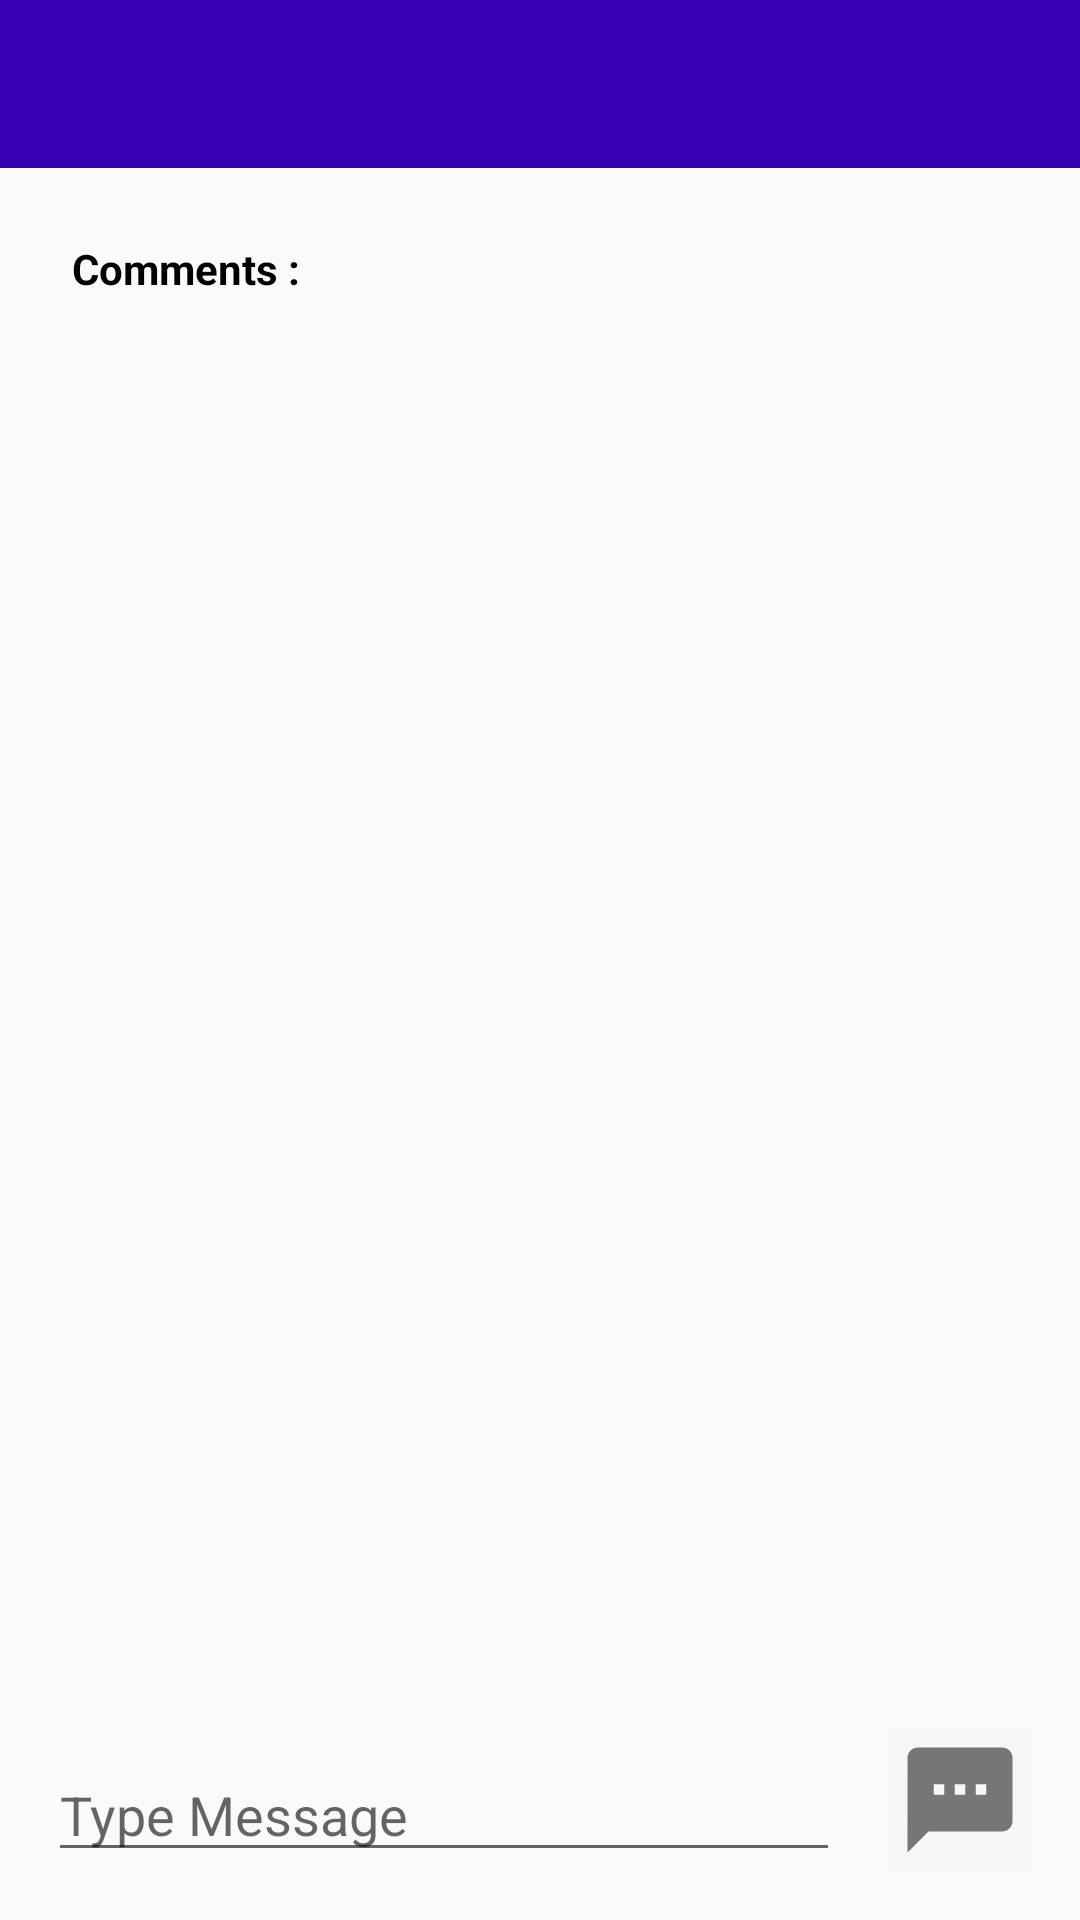

Named icons in this screenshot (1080×1920) and their centers, [x,y]:
text comments: [960,1799]
